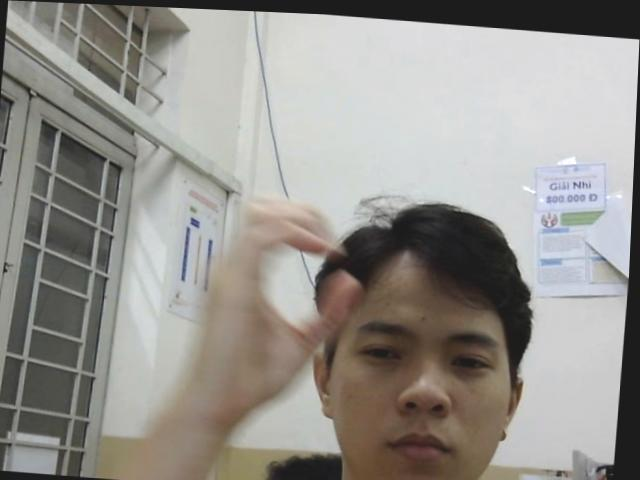C: (183, 187, 368, 431)
